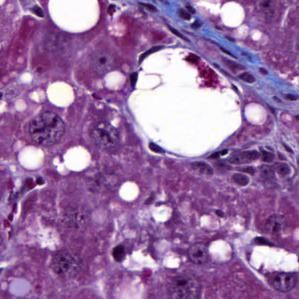ballooning: (125, 44, 244, 162)
